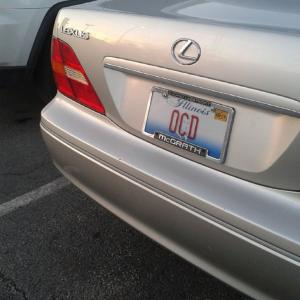Vehicle-registration-plate: (144, 92, 228, 161)
